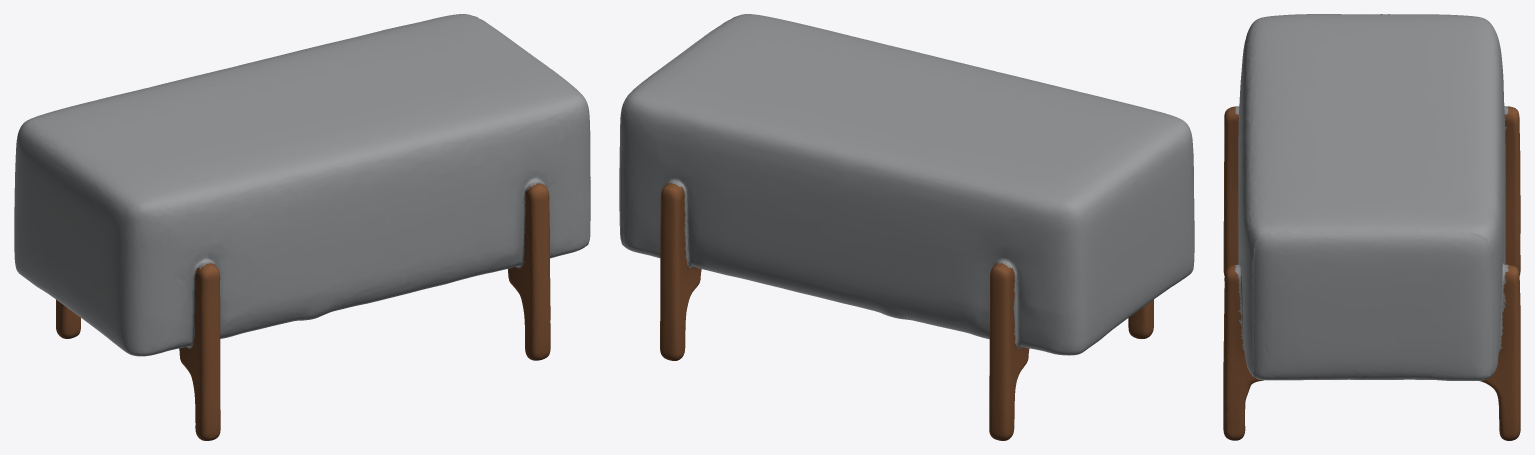
Rendered from puff-belle-090.glb.
The picture shows the model from 3 angles, left to right: view 1: azimuth 30°, elevation 25°; view 2: azimuth 150°, elevation 25°; view 3: azimuth 270°, elevation 25°; orthographic projection.
Visible parts, largest first — view 1: Sofa; view 2: Sofa; view 3: Sofa.
Boxes of the visible parts, x1=… form: Sofa: x1=14, y1=14, x2=590, y2=440; Sofa: x1=619, y1=14, x2=1194, y2=440; Sofa: x1=1223, y1=14, x2=1520, y2=440.
Bounding box in the file's own units: 0.9 × 0.45 × 0.5.
